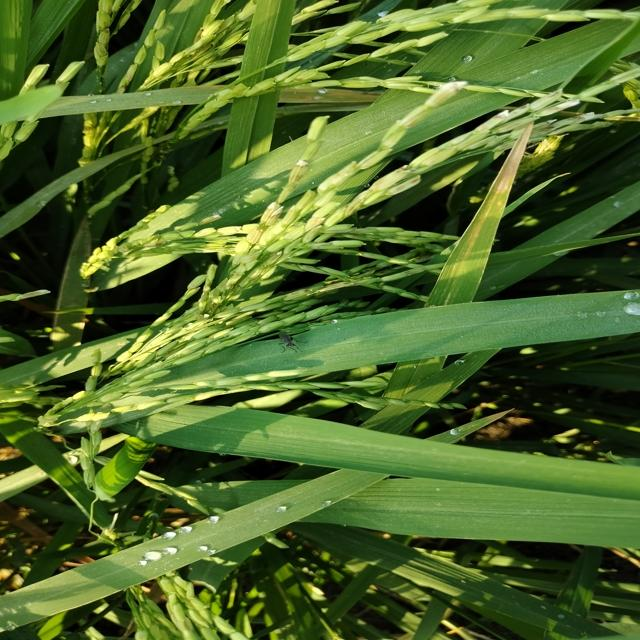healthy: (483, 116, 538, 201)
